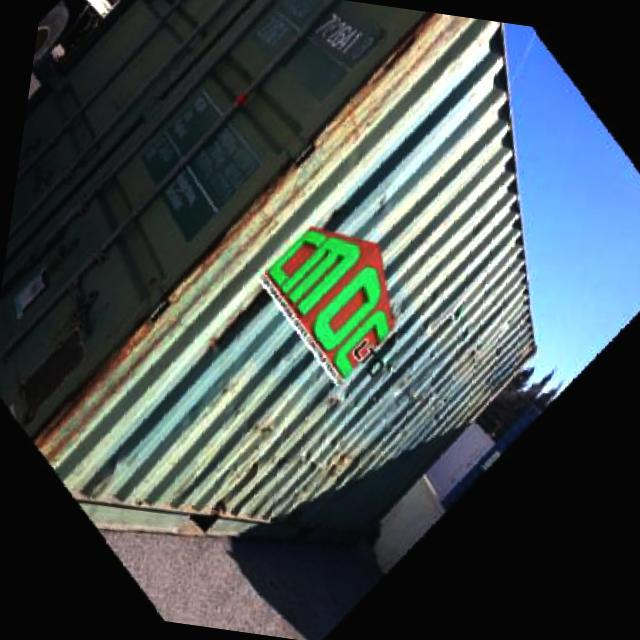rust: (325, 8, 440, 158), (38, 314, 149, 467), (194, 260, 286, 374), (289, 427, 375, 497)
